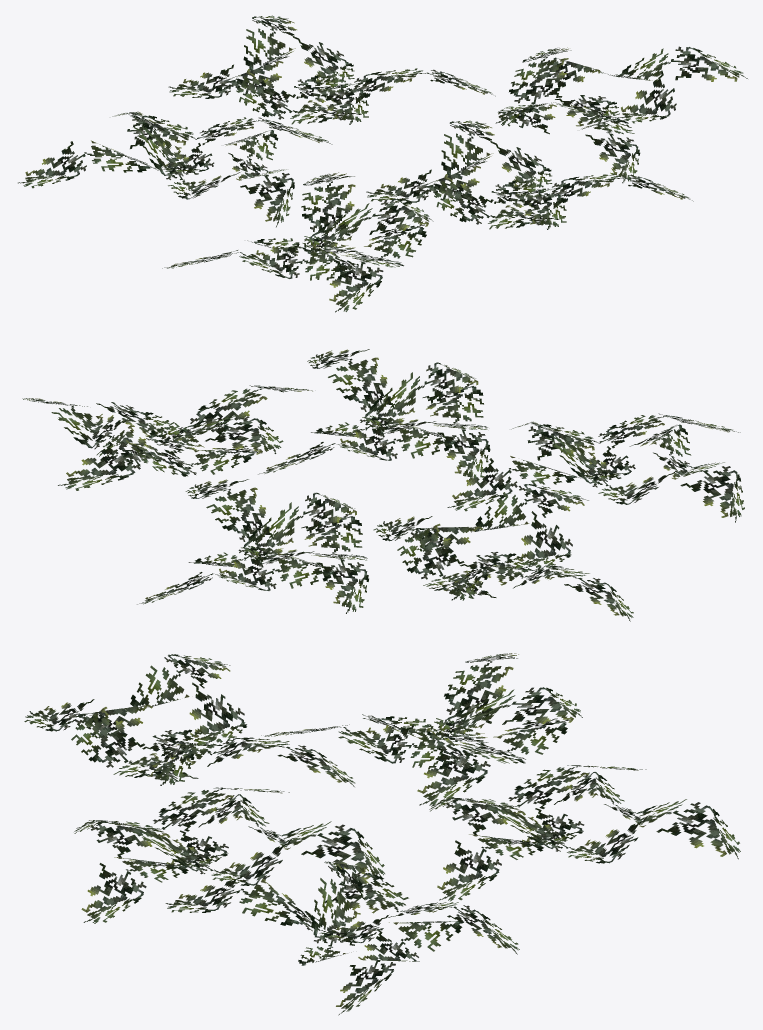
File: Grass01.glb
3 views of the same model, one above another, from view 1: azimuth 30°, elevation 25°; view 2: azimuth 150°, elevation 25°; view 3: azimuth 270°, elevation 25° (orthographic). The views are drawn at different scales.
Visible parts, largest first — view 1: Grass01; view 2: Grass01; view 3: Grass01.
Part boxes in pixels (x1,y1,x2,y2): Grass01: (18,15,747,312); Grass01: (22,349,744,621); Grass01: (24,653,740,1015).
Bounding box in the file's own units: 4.83 × 0.2892 × 4.09.
1 material, 1 textured.
